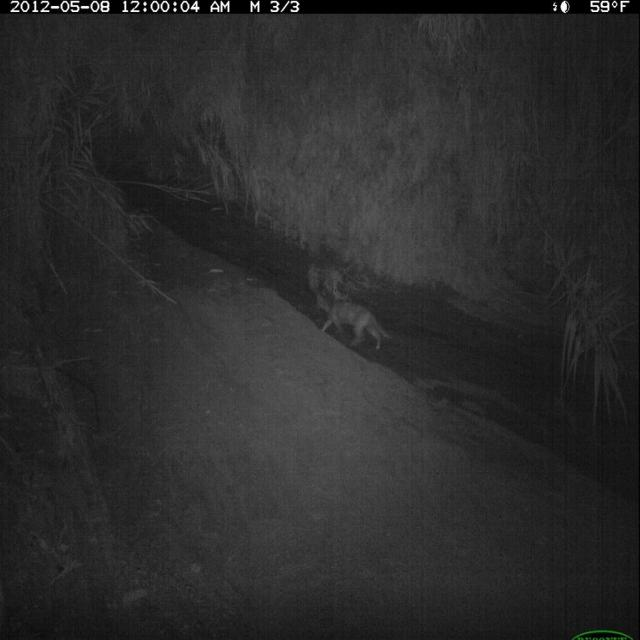cat: (312, 289, 395, 356)
